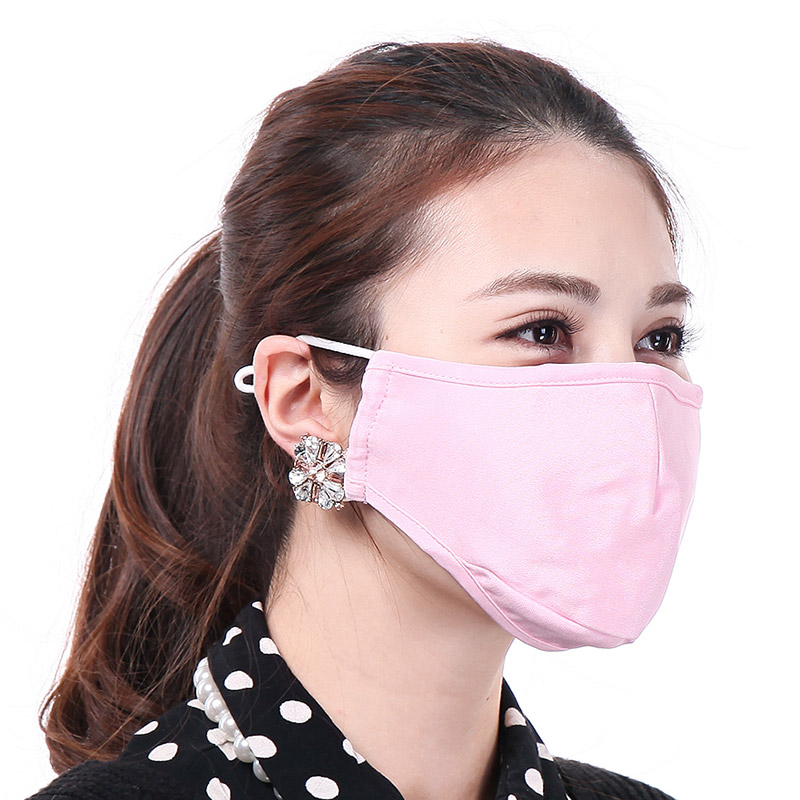face_mask: (362, 148, 704, 642)
